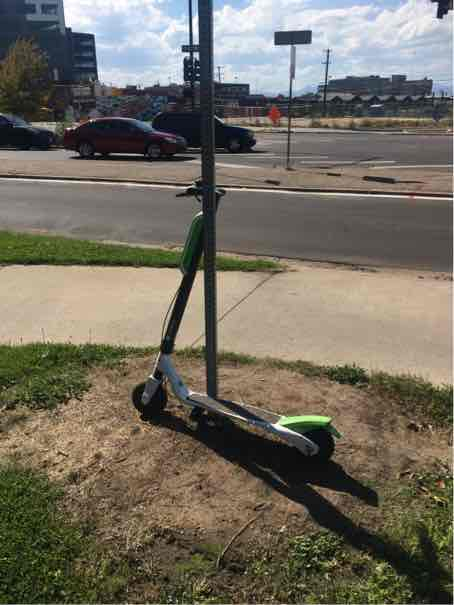scooter: (127, 167, 338, 472)
